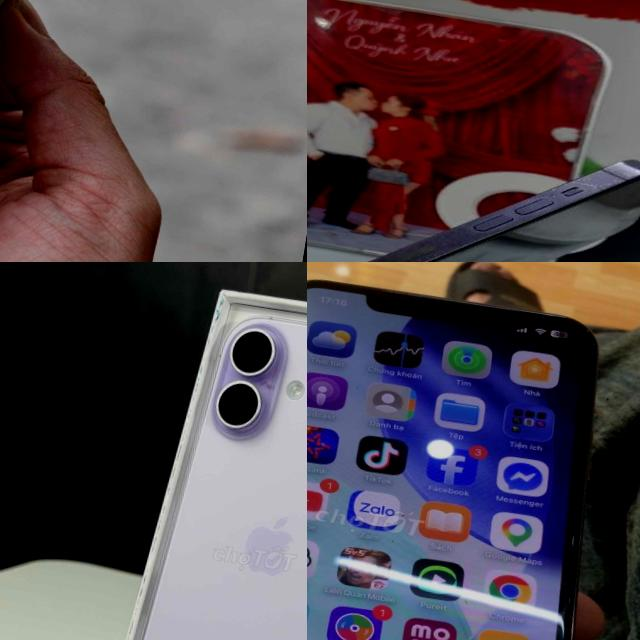gen_11: (307, 281, 597, 640)
gen_14: (307, 88, 640, 262)
gen_17: (110, 294, 307, 640)
